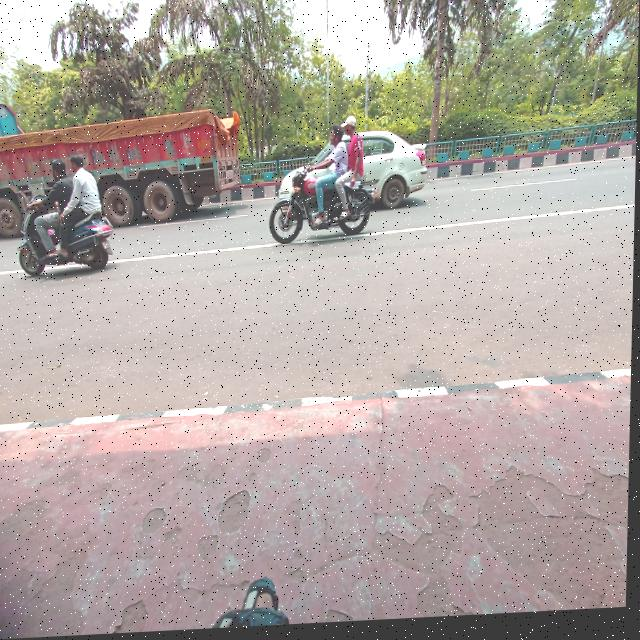bike: (14, 194, 123, 285), (274, 168, 373, 251)
